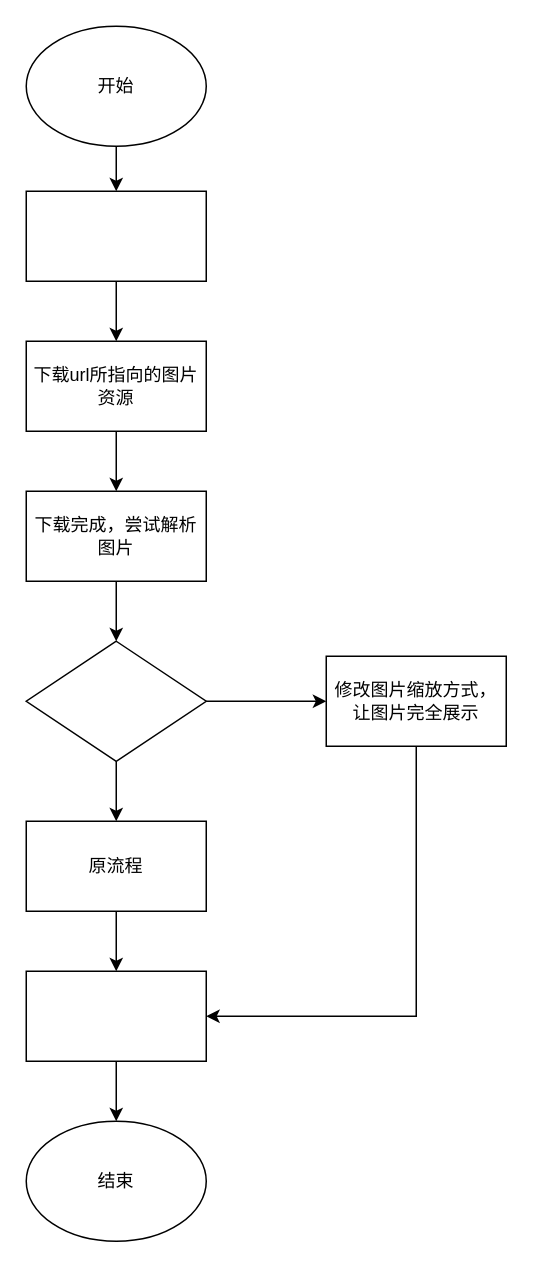
This 533x1268 diagram has some shape labels left out. Each missing label, with the centre of its shape:
加载url: the point at 115,235
展示图片: the point at 115,1015
解析图片的宽高比小于标定横纵比: the point at 115,700
